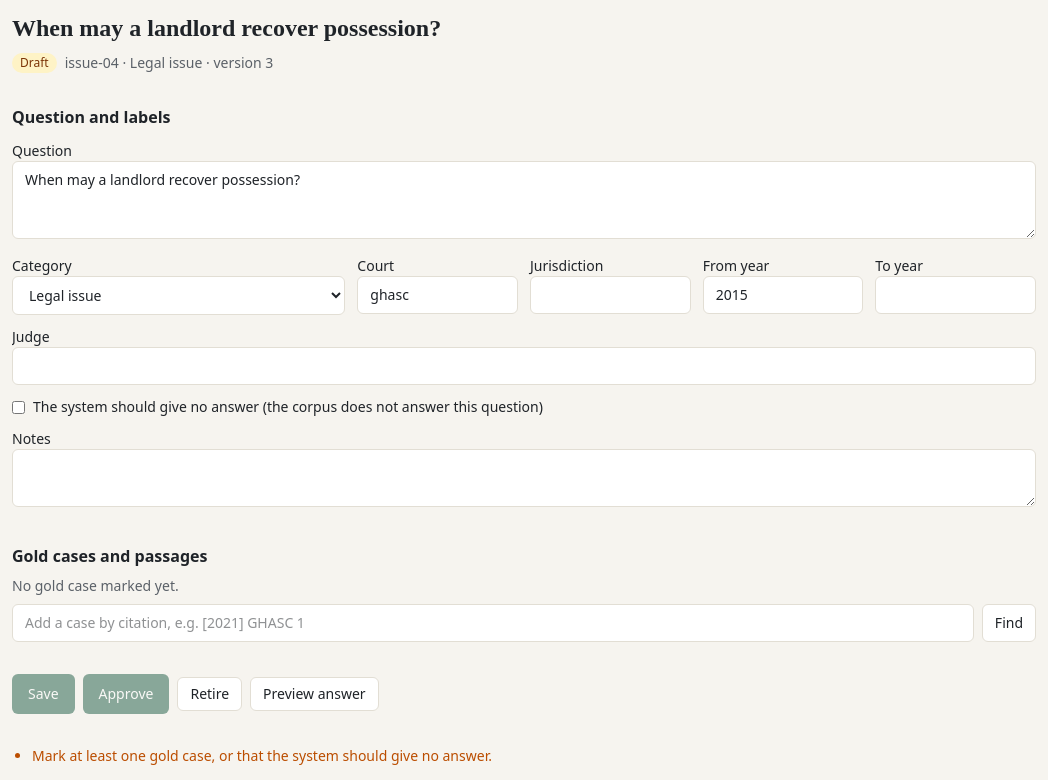
Scenario: every judgment the reviewer labels links to the original › links citation lookup results before they are added
This screenshot has width=1048, height=780.
Type "[2015] GHASC 132" into the field labelled "citation".
click(493, 623); type("[2015] GHASC 132")  # box [12, 604, 974, 642]
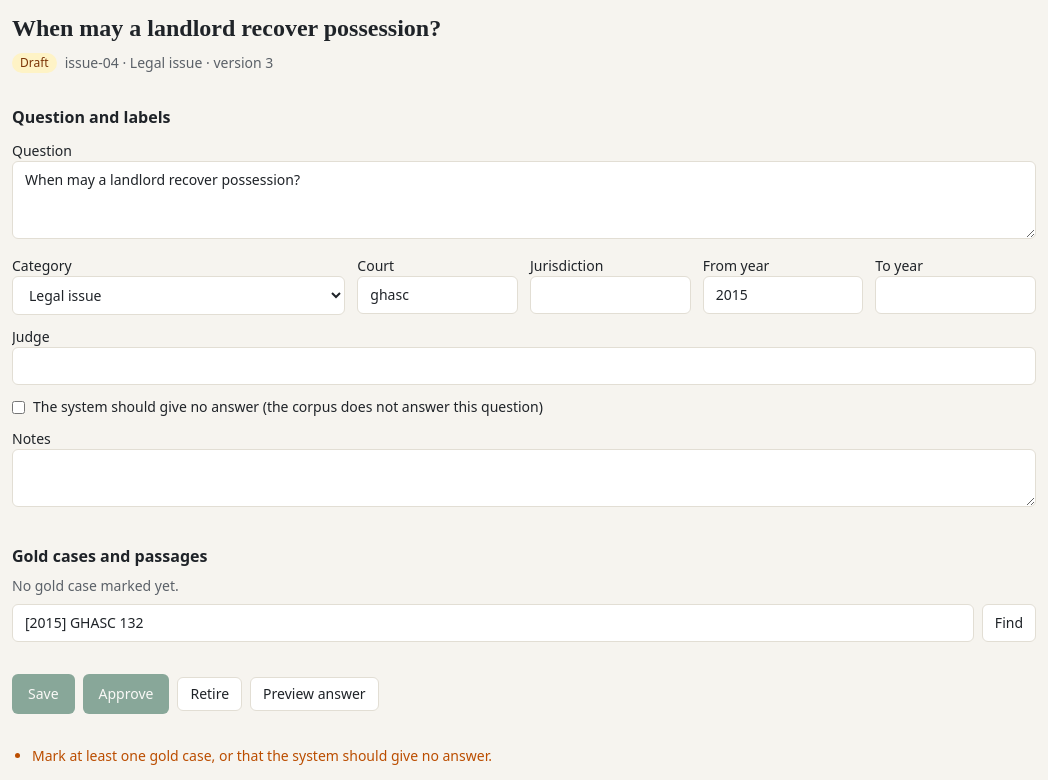
Click the button "Find".
click(1009, 623)  # box [982, 604, 1036, 642]
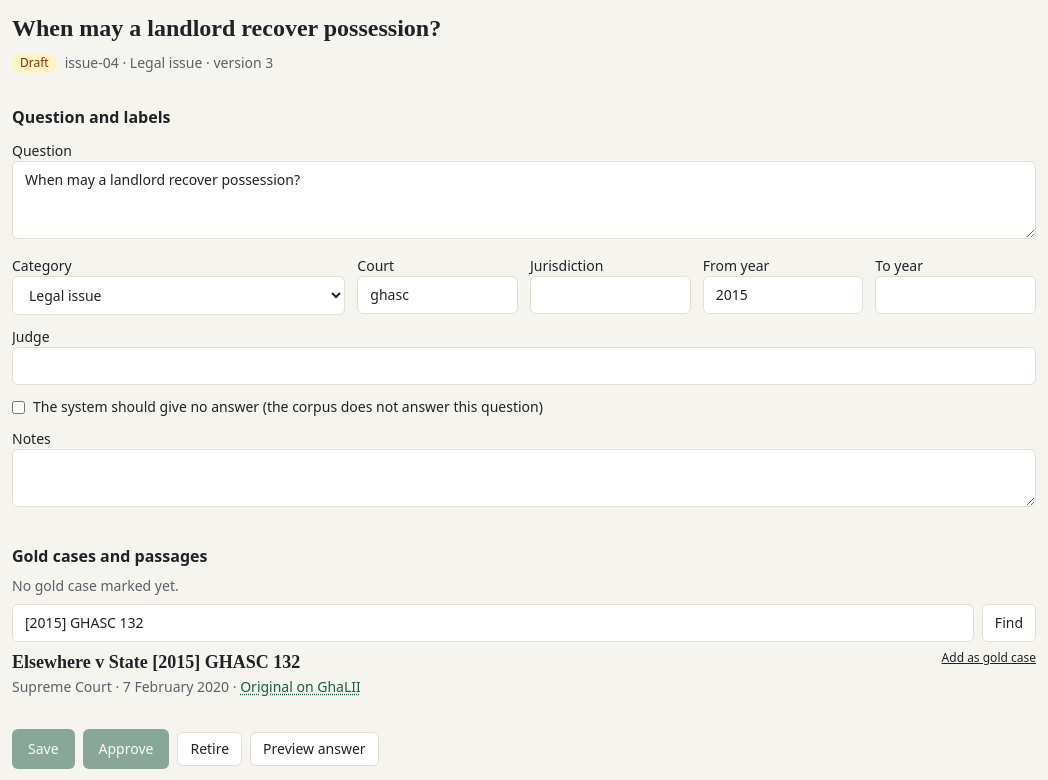
expect the button "Add as gold case" is shown: met, box [942, 650, 1036, 666]
